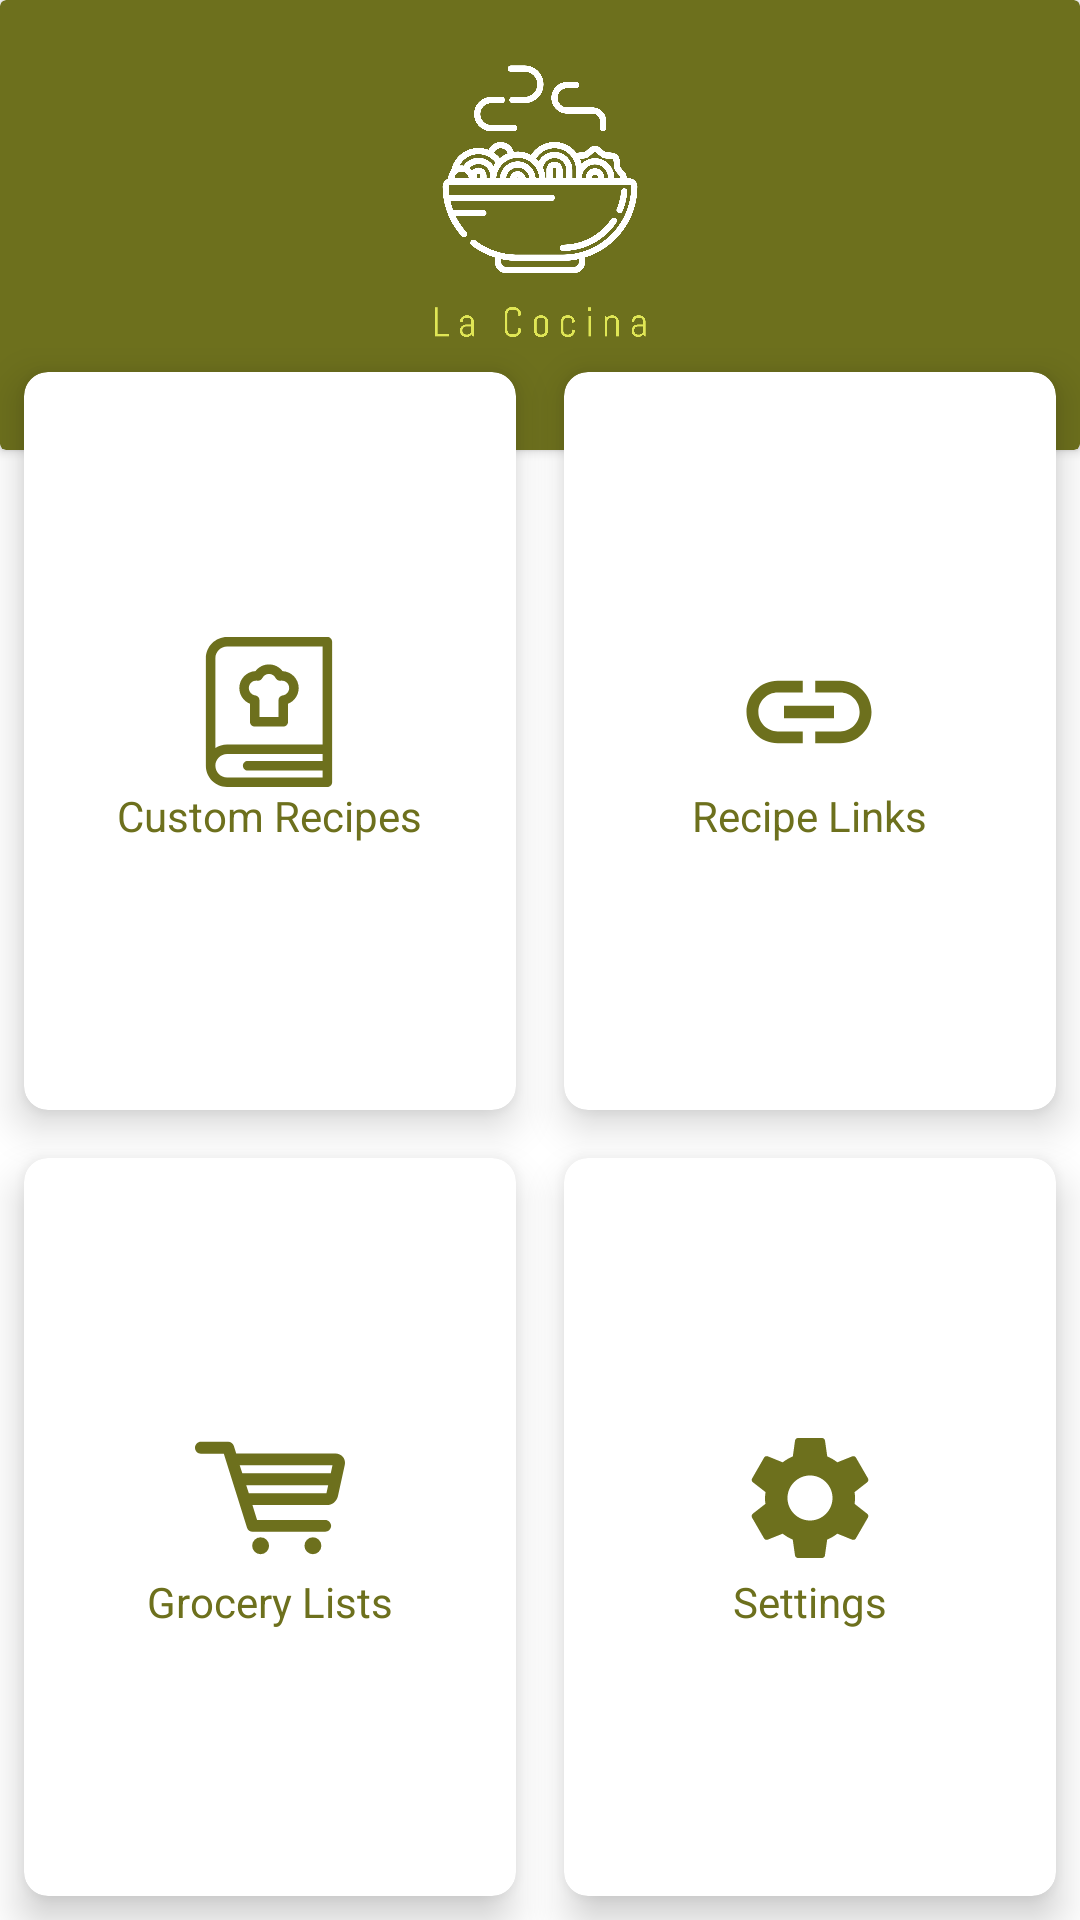

Screen size 1080*1920. Icon name, then its center in pixels as point (x, y):
grocery trolley: point (270, 1498)
